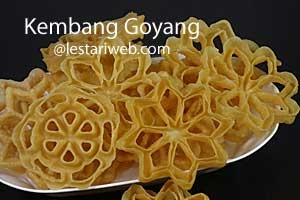kembang_goyang: (119, 80, 226, 186)
